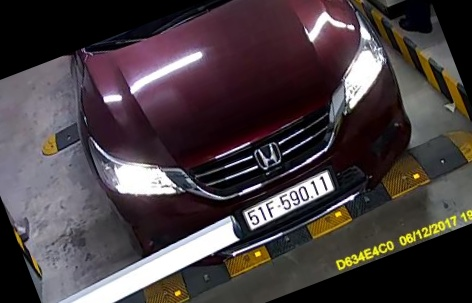plate: (240, 170, 346, 233)
